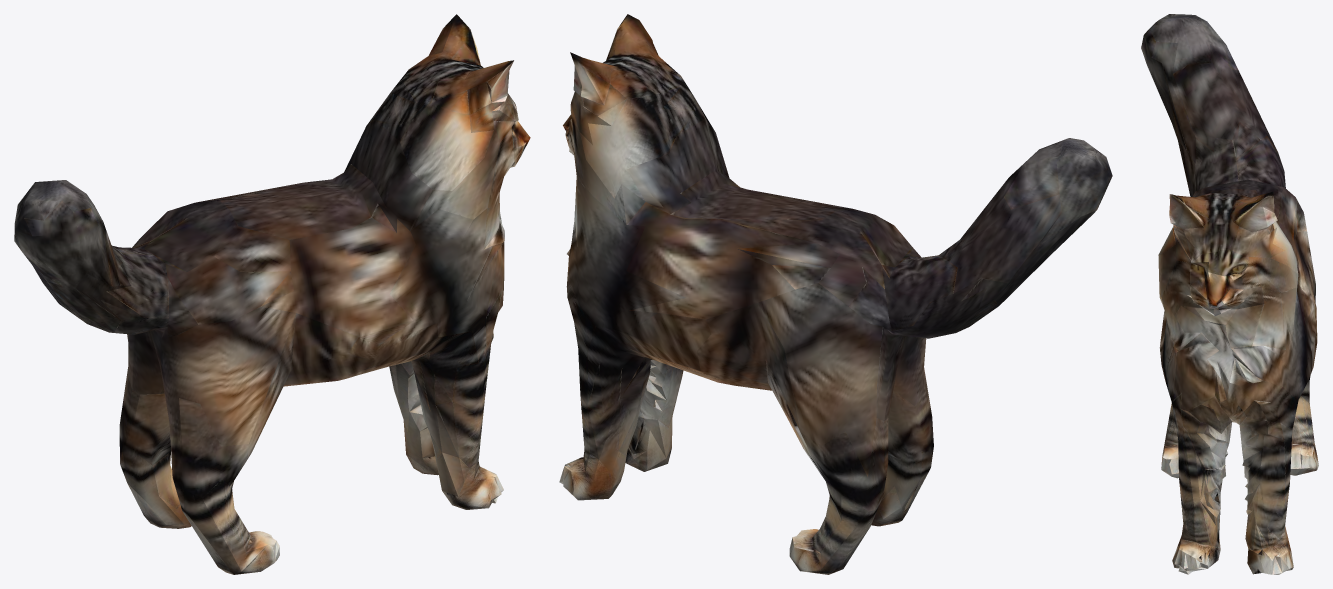
File: MRSNORRCAT-lo.glb
The picture shows the model from 3 angles, left to right: view 1: azimuth 30°, elevation 25°; view 2: azimuth 150°, elevation 25°; view 3: azimuth 270°, elevation 25°; orthographic projection. The views are drawn at different scales.
Parts seen in each view (by area): view 1: output_unwrapped; view 2: output_unwrapped; view 3: output_unwrapped.
Part boxes in pixels (bbox=[...]): output_unwrapped: bbox=[14, 14, 530, 574]; output_unwrapped: bbox=[559, 14, 1112, 574]; output_unwrapped: bbox=[1141, 14, 1318, 574].
Bounding box in the file's own units: 1.24 × 1 × 0.4124.
1 material, 1 textured.
